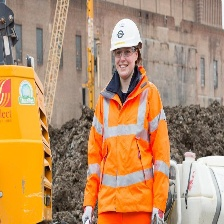helmet: (109, 18, 145, 51)
person: (80, 20, 169, 224)
vest: (84, 82, 168, 224)
